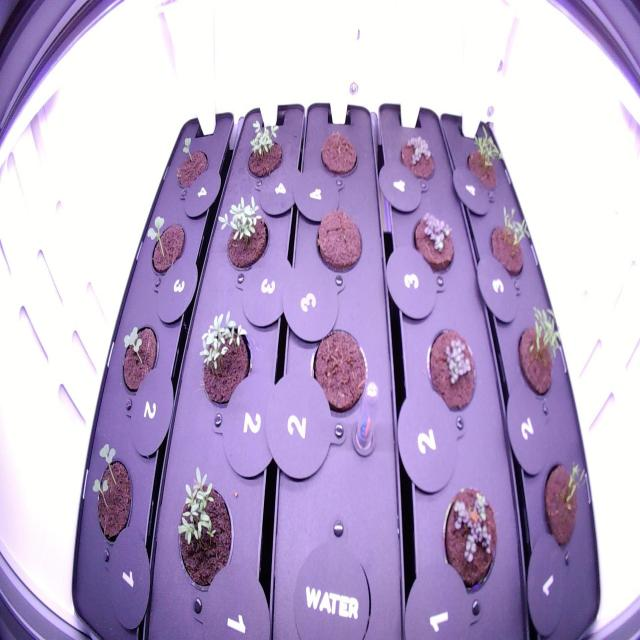germination: (167, 459, 237, 602), (433, 480, 502, 600), (537, 450, 596, 569), (194, 304, 256, 415), (84, 431, 137, 556), (512, 299, 570, 409), (420, 322, 480, 419), (212, 186, 274, 278), (485, 199, 536, 288), (114, 315, 162, 405), (138, 206, 190, 289), (458, 119, 508, 202), (407, 207, 459, 281), (240, 115, 286, 192), (168, 130, 212, 200), (392, 129, 440, 187)
pod: (305, 319, 371, 428), (310, 203, 366, 282), (313, 124, 361, 186)
